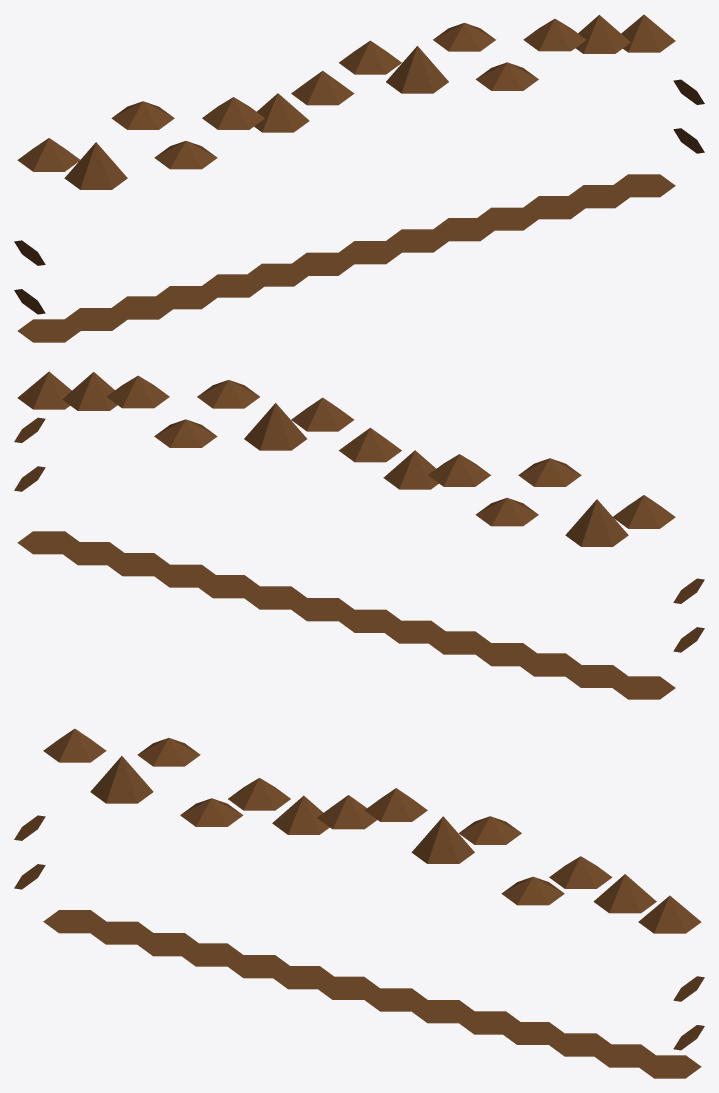
File: WallEndingMesh.obj
3 renders of one model, top to bottom at view 1: azimuth 30°, elevation 25°; view 2: azimuth 150°, elevation 25°; view 3: azimuth 330°, elevation 25°, orthographic.
Visible parts, largest first — view 1: WallEnd.007_WallEndingMesh; view 2: WallEnd.007_WallEndingMesh; view 3: WallEnd.007_WallEndingMesh.
Boxes of the visible parts, x1=… form: WallEnd.007_WallEndingMesh: x1=14, y1=14, x2=704, y2=342; WallEnd.007_WallEndingMesh: x1=14, y1=371, x2=704, y2=699; WallEnd.007_WallEndingMesh: x1=14, y1=728, x2=704, y2=1078.
Bounding box in the file's own units: 203 × 62.51 × 23.88.
